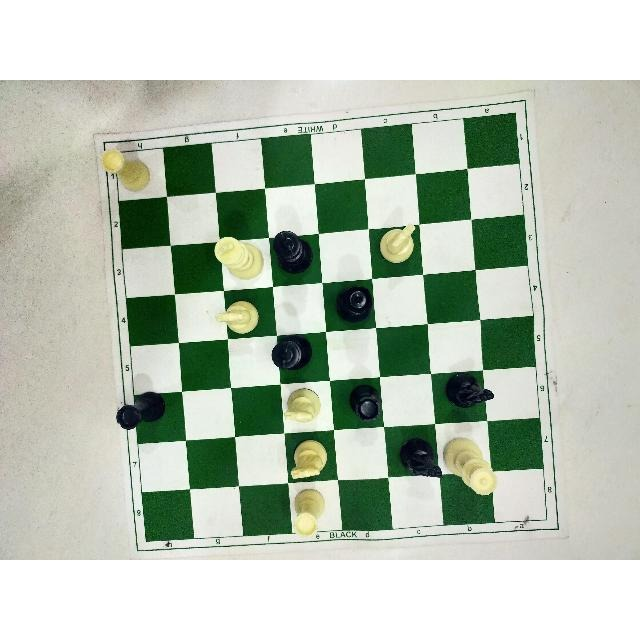black-king: (271, 227, 316, 280), (268, 332, 310, 370)
black-knight: (445, 371, 497, 413), (398, 435, 440, 485)
black-queen: (333, 282, 375, 327)
black-rook: (114, 387, 167, 431), (346, 384, 385, 424)
white-king: (209, 232, 264, 284)
white-knight: (375, 220, 419, 269), (216, 297, 261, 339), (287, 437, 327, 483), (278, 385, 320, 423)
white-queen: (442, 440, 498, 504)
white-rook: (102, 144, 150, 195), (290, 488, 326, 540)
